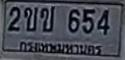2: (8, 6, 20, 30)
4: (97, 9, 109, 34)
5: (82, 8, 94, 33)
6: (69, 8, 80, 33)
A02: (24, 6, 38, 31)
A10: (39, 5, 55, 33)
BKK: (15, 39, 106, 59)
